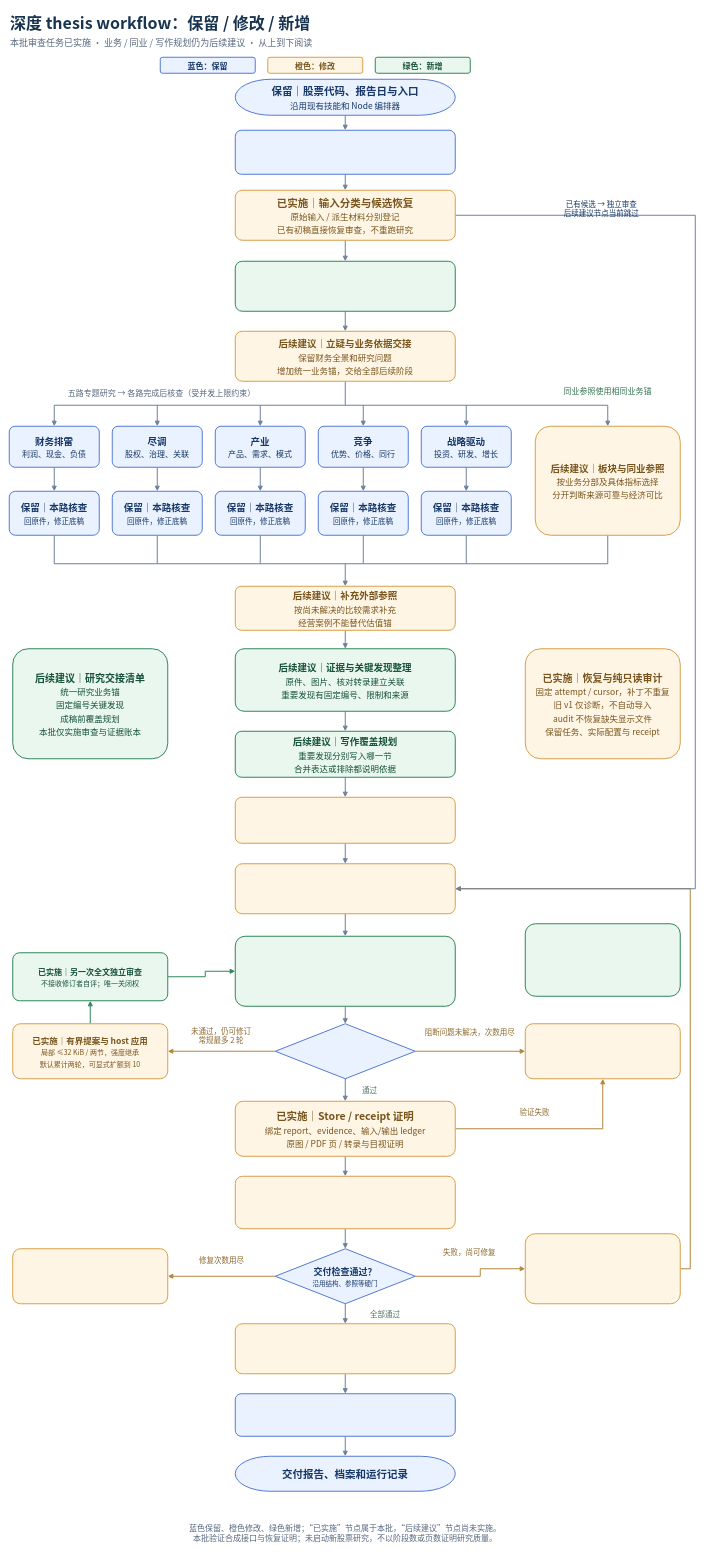
Some shapes in this 708 by 1557 pixel diagram are drawn without their labels. The shapes that lost their labels are listed below. From the top down, each one's box as (x1, y1, x2, y2) in pixels, then its label:
(234, 130, 456, 174): 保留｜准备并验证原始数据 首次研究缺数才抓取；续跑用冻结清单
(234, 260, 456, 312): 后续建议｜本次研究业务识别 识别价值依赖、转型业务与重大风险
(234, 796, 456, 844): 后续建议｜统一成稿（十二节） 保留统一写作方式 增加关键发现清单与写作规划作为输入
(234, 863, 456, 914): 已实施｜完整独立审查 十二节、五路底稿与全部附件 报告 / 证据 / 输入 ledger 精确绑定
(234, 936, 456, 1006): 已实施｜审查任务账本 稳定 RT ID、依据、位置与验收条件 阻断 / 披露限制 / 观察 host 应用 → 待复核 → 独立裁定
(524, 923, 680, 996): 本批已实施审查任务区 worker 只读，host 唯一应用 另一调用完整复核，不能自关 业务 / 同业 / 写作规划待后续
(274, 1023, 416, 1079): 审查通过？ 无未解决的阻断问题
(524, 1023, 680, 1079): 已实施｜保存检查点并停止 budget_exhausted / needs_evidence no_safe_edit；不伪造通过
(234, 1176, 456, 1229): 已实施｜暂存档案与交付检查 仅写 host 选定路径；逐次核对 receipt 人工冲突保留，阻断不安全发布
(12, 1248, 168, 1304): 已实施｜交付失败恢复 保留候选版本、失败原因和待办 旧正式交付保持可用
(524, 1233, 680, 1304): 已实施｜硬门任务修复 报告修复进入同一轮次预算 纯档案 / PDF 重试不消耗语义轮数
(234, 1323, 456, 1374): 已实施｜host 提交档案 / PDF 同一快照与 receipt 授权 保留恢复日志与既有人工内容
(234, 1393, 456, 1436): 保留｜核对正式 PDF 转换在暂存阶段完成；核对正式路径
